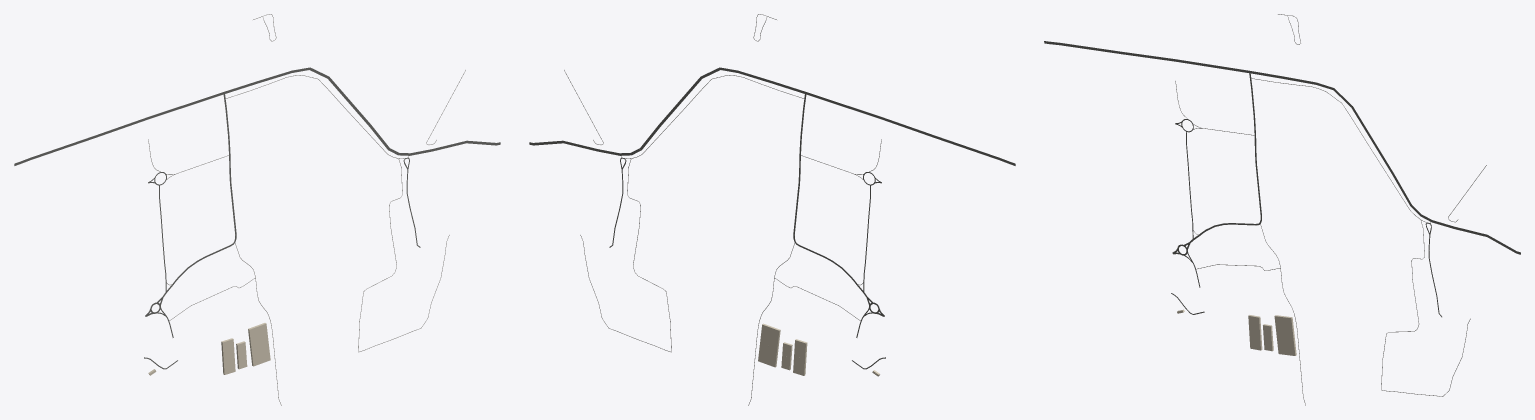
Rendered from historic-palestine-07_26_3491_3204.glb.
The picture shows the model from 3 angles, left to right: view 1: azimuth 30°, elevation 25°; view 2: azimuth 150°, elevation 25°; view 3: azimuth 330°, elevation 25°; orthographic projection. The views are drawn at different scales.
Visible parts, largest first — view 1: Road 4623, Building_.001, Road .009, Building_.003; view 2: Road 4623, Building_.001, Road .009, Building_.003; view 3: Road 4623, Building_.001, Road .009, Building_.003.
Part boxes in pixels (<box>): Road 4623: <box>14,67,500,165</box>; Building_.001: <box>248,323,270,366</box>; Road .009: <box>162,99,236,297</box>; Building_.003: <box>221,338,235,374</box>; Road 4623: <box>529,67,1015,165</box>; Building_.001: <box>758,323,780,367</box>; Road .009: <box>793,99,867,297</box>; Building_.003: <box>793,339,807,375</box>; Road 4623: <box>1044,41,1520,254</box>; Building_.001: <box>1274,315,1296,355</box>; Road .009: <box>1189,78,1261,242</box>; Building_.003: <box>1248,315,1262,350</box>.
Size of the model in its own units: 1597 by 1239 by 8.7.
